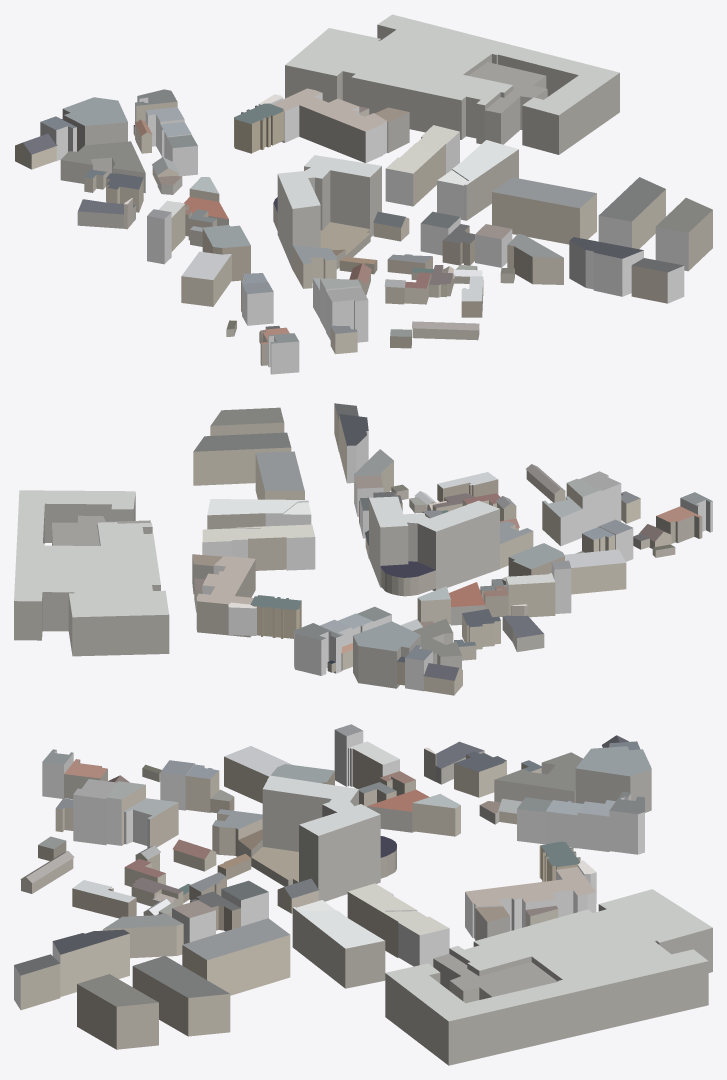
The picture shows the model from 3 angles, top to bottom: view 1: azimuth 30°, elevation 25°; view 2: azimuth 150°, elevation 25°; view 3: azimuth 270°, elevation 25°; orthographic projection. The views are drawn at different scales.
Visible parts, largest first — view 1: tuile; view 2: tuile; view 3: tuile.
Boxes of the visible parts, x1,y1,x2,y2 form: tuile: (15, 14, 712, 374); tuile: (14, 403, 712, 695); tuile: (14, 724, 712, 1065).
Size of the model in its own units: 266 by 35.31 by 269.
